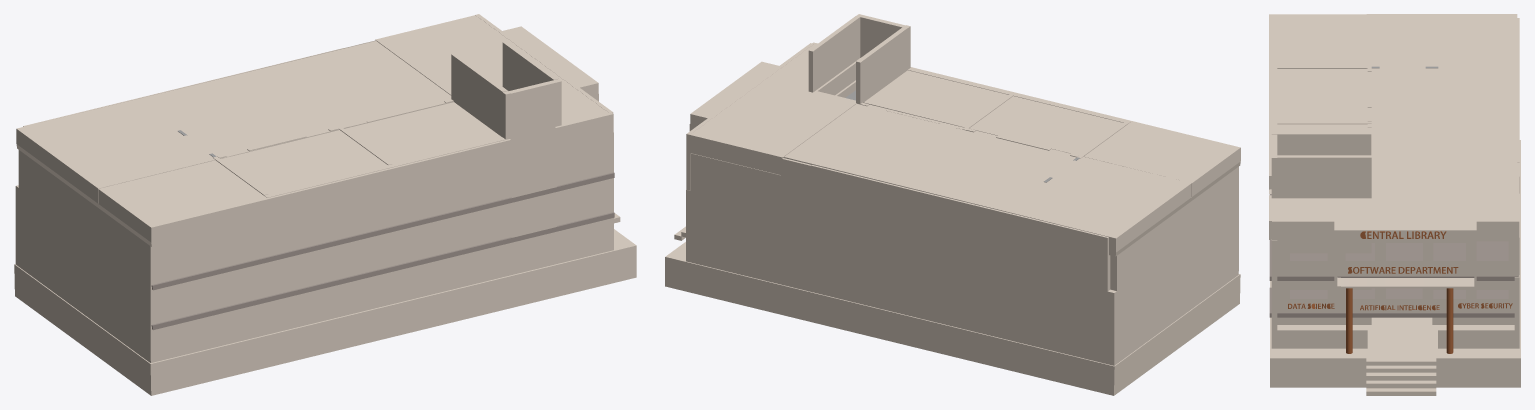
Rendered from CS_NEW_BUILDING (1).fbx.
3 renders of one model, left to right at view 1: azimuth 30°, elevation 25°; view 2: azimuth 150°, elevation 25°; view 3: azimuth 270°, elevation 25°, orthographic. The views are drawn at different scales.
Parts seen in each view (by area): view 1: pPlane3; view 2: pPlane3; view 3: pPlane3.
Boxes of the visible parts, box(x1,y1,x2,y2) form: pPlane3: box(14, 14, 636, 395); pPlane3: box(665, 14, 1240, 395); pPlane3: box(1269, 14, 1520, 395).
Bounding box in the file's own units: 68.16 × 26.76 × 30.93.
